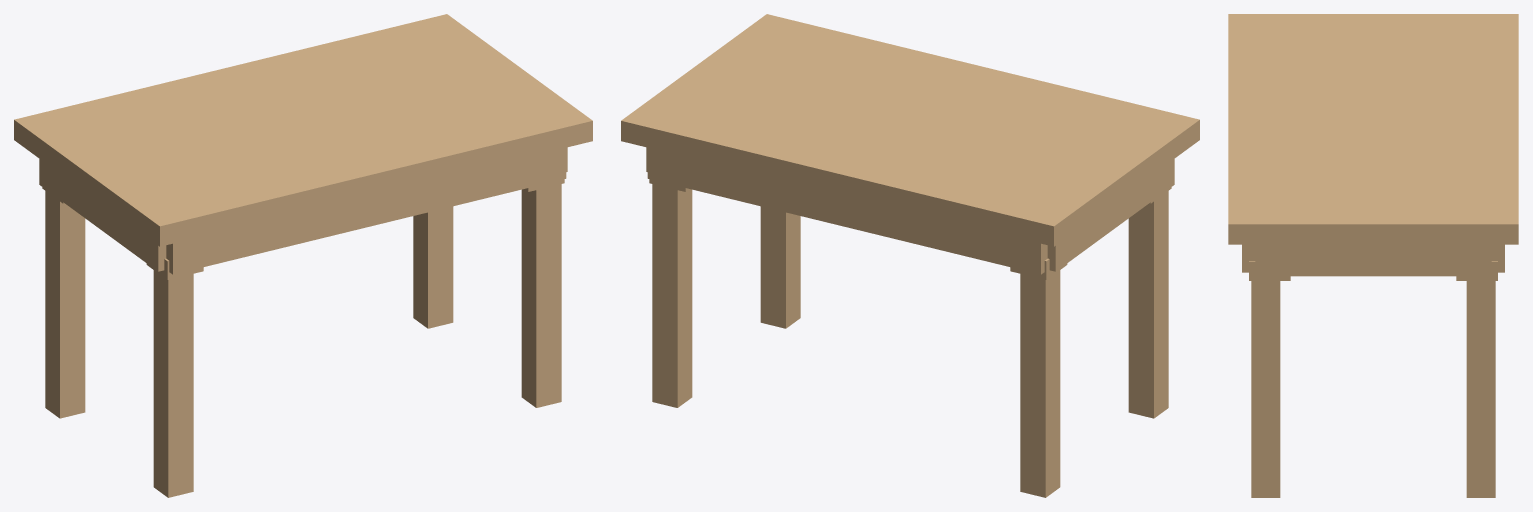
Rendered from table.glb.
The picture shows the model from 3 angles, left to right: view 1: azimuth 30°, elevation 25°; view 2: azimuth 150°, elevation 25°; view 3: azimuth 270°, elevation 25°; orthographic projection.
Visible parts, largest first — view 1: =>[0:1:1:2]; view 2: =>[0:1:1:2]; view 3: =>[0:1:1:2].
Part boxes in pixels (bbox=[...]): =>[0:1:1:2]: bbox=[14, 14, 592, 497]; =>[0:1:1:2]: bbox=[621, 14, 1199, 497]; =>[0:1:1:2]: bbox=[1228, 14, 1518, 497].
Bounding box in the file's own units: 1.2 × 0.754 × 0.7.
